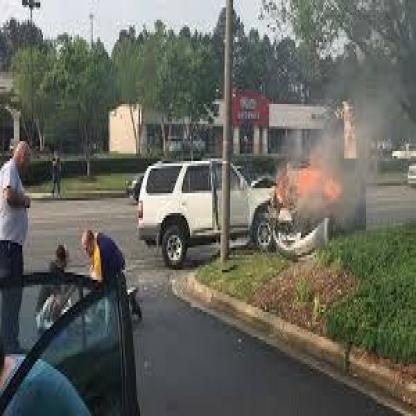fire: (272, 129, 348, 223)
